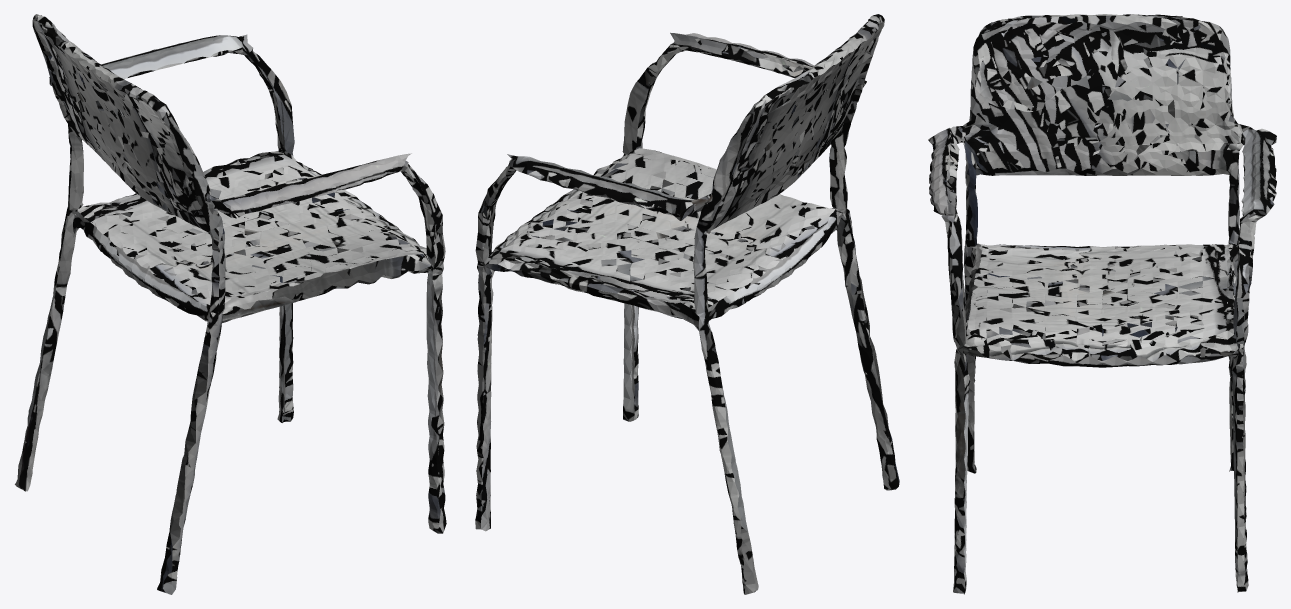
File: elem_94_115_131_213_9_4.obj
3 renders of one model, left to right at view 1: azimuth 30°, elevation 25°; view 2: azimuth 150°, elevation 25°; view 3: azimuth 270°, elevation 25°, orthographic. The views are drawn at different scales.
Size of the model in its own units: 0.4549 by 0.7093 by 0.4948.
Materials: 1 (1 with a texture image).
